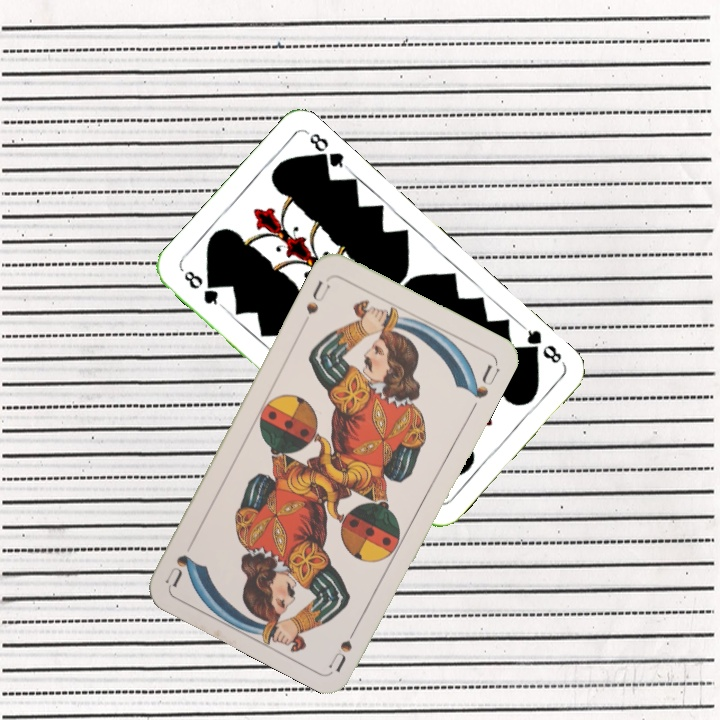G8: (518, 322, 566, 366), (179, 266, 226, 310)
SU: (325, 616, 363, 673), (298, 276, 334, 328)
